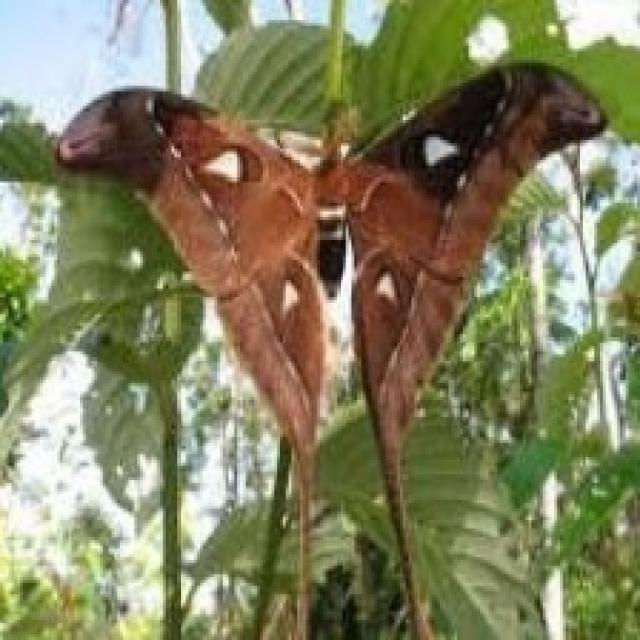butterfly: (49, 57, 608, 637)
